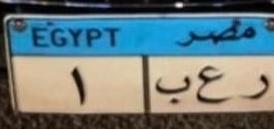1: (67, 63, 92, 109)
ain: (194, 62, 232, 111)
baa: (155, 70, 192, 107)
raa: (237, 67, 272, 107)
